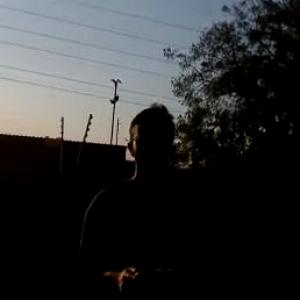follow: (69, 100, 208, 299)
